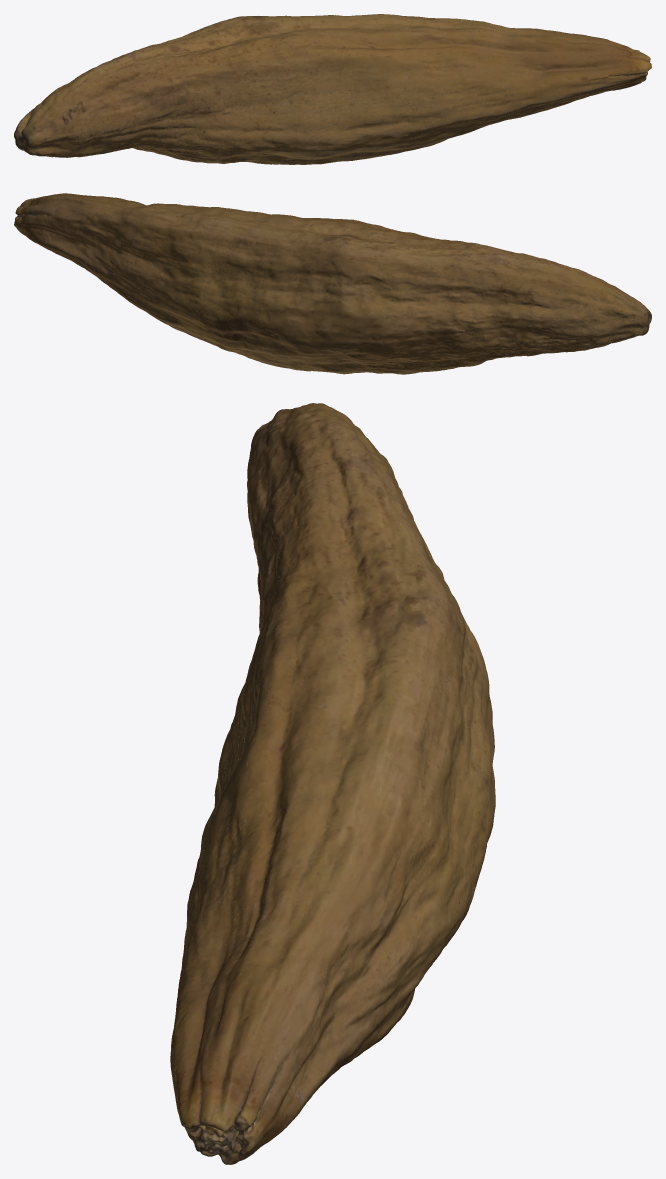
Rendered from jackfruit-pod.glb.
3 renders of one model, top to bottom at view 1: azimuth 30°, elevation 25°; view 2: azimuth 150°, elevation 25°; view 3: azimuth 270°, elevation 25°, orthographic. The views are drawn at different scales.
Parts seen in each view (by area): view 1: Object_8, Object_4, Object_2, Object_3, Object_7, Object_9, Object_5; view 2: Object_9, Object_10, Object_6, Object_2, Object_7, Object_5, Object_4, Object_3; view 3: Object_2, Object_6, Object_4, Object_3, Object_5, Object_8, Object_10, Object_7, Object_9.
Boxes of the visible parts, x1=… form: Object_8: x1=27, y1=50, x2=541, y2=155; Object_4: x1=78, y1=14, x2=651, y2=164; Object_2: x1=15, y1=15, x2=651, y2=151; Object_3: x1=319, y1=14, x2=651, y2=161; Object_7: x1=122, y1=52, x2=576, y2=146; Object_9: x1=14, y1=51, x2=524, y2=154; Object_5: x1=15, y1=14, x2=537, y2=164; Object_9: x1=146, y1=272, x2=648, y2=372; Object_10: x1=14, y1=198, x2=646, y2=370; Object_6: x1=14, y1=197, x2=439, y2=374; Object_2: x1=38, y1=210, x2=649, y2=320; Object_7: x1=18, y1=229, x2=545, y2=373; Object_5: x1=78, y1=200, x2=651, y2=374; Object_4: x1=20, y1=193, x2=538, y2=359; Object_3: x1=14, y1=195, x2=314, y2=315; Object_2: x1=170, y1=403, x2=448, y2=1153; Object_6: x1=228, y1=607, x2=493, y2=1163; Object_4: x1=172, y1=684, x2=399, y2=1128; Object_3: x1=170, y1=691, x2=382, y2=1164; Object_5: x1=231, y1=434, x2=459, y2=1054; Object_8: x1=178, y1=411, x2=307, y2=989; Object_10: x1=230, y1=417, x2=493, y2=1150; Object_7: x1=200, y1=500, x2=492, y2=1162; Object_9: x1=178, y1=408, x2=495, y2=1048.
Size of the model in its own units: 264 by 62.51 by 60.68.
1 material, 1 textured.
